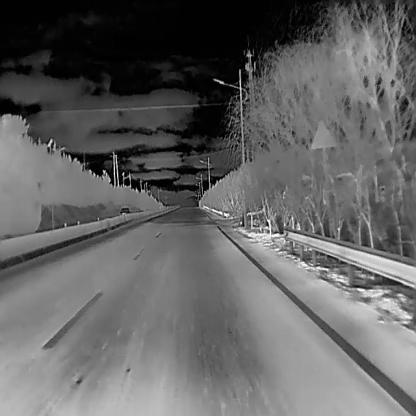car: (118, 206, 128, 216)
